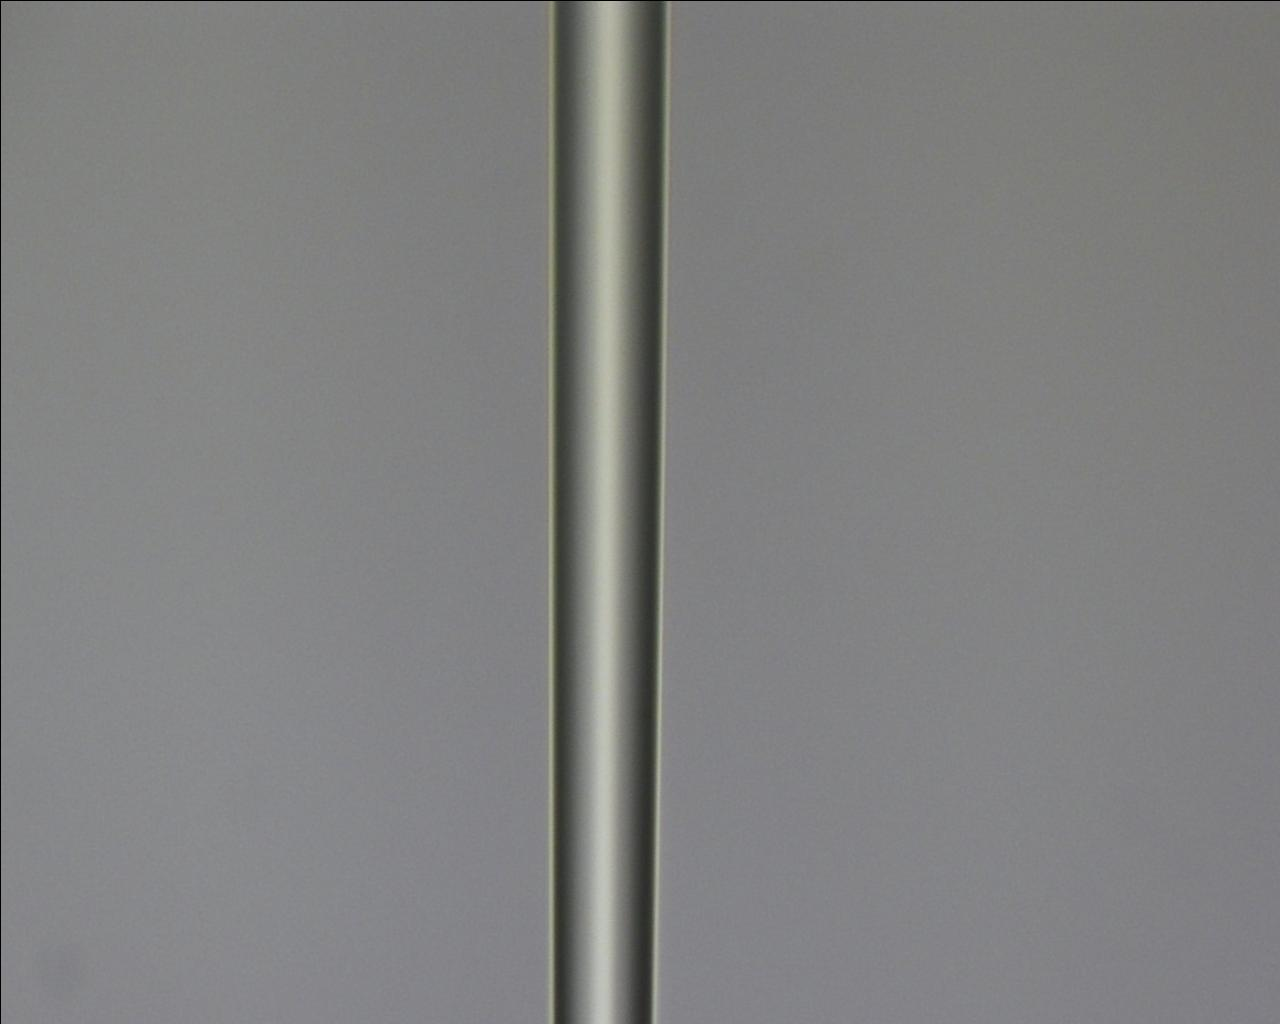fiber: (183, 64, 1280, 1024)
